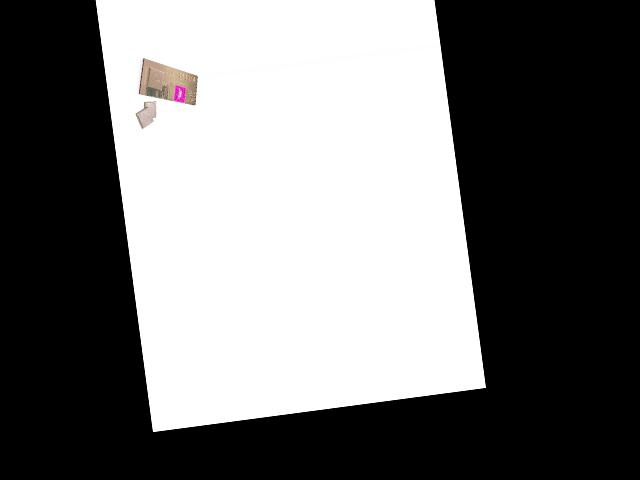chocolate: (133, 51, 202, 113)
